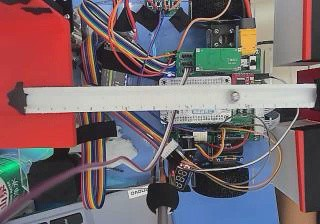ironball: (228, 91, 239, 101)
